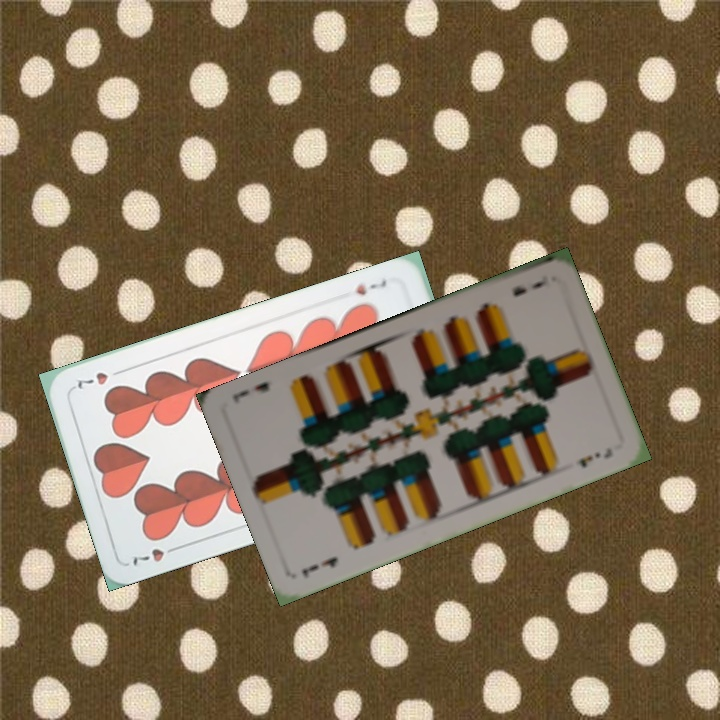E7: (297, 552, 341, 581), (509, 271, 551, 300)
H7: (127, 542, 183, 569), (352, 275, 389, 298)
